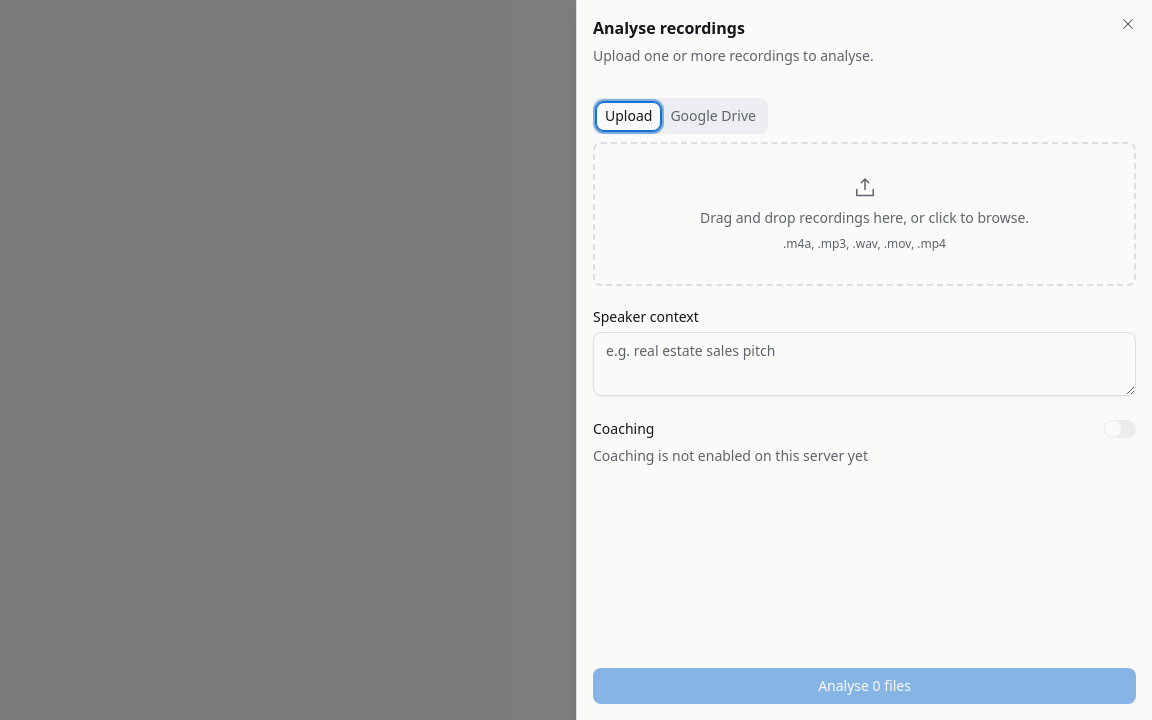
a 415 from the Drive submit shows the server detail inline
Click the tab "Google Drive" at [713, 116], box [661,102,765,130]
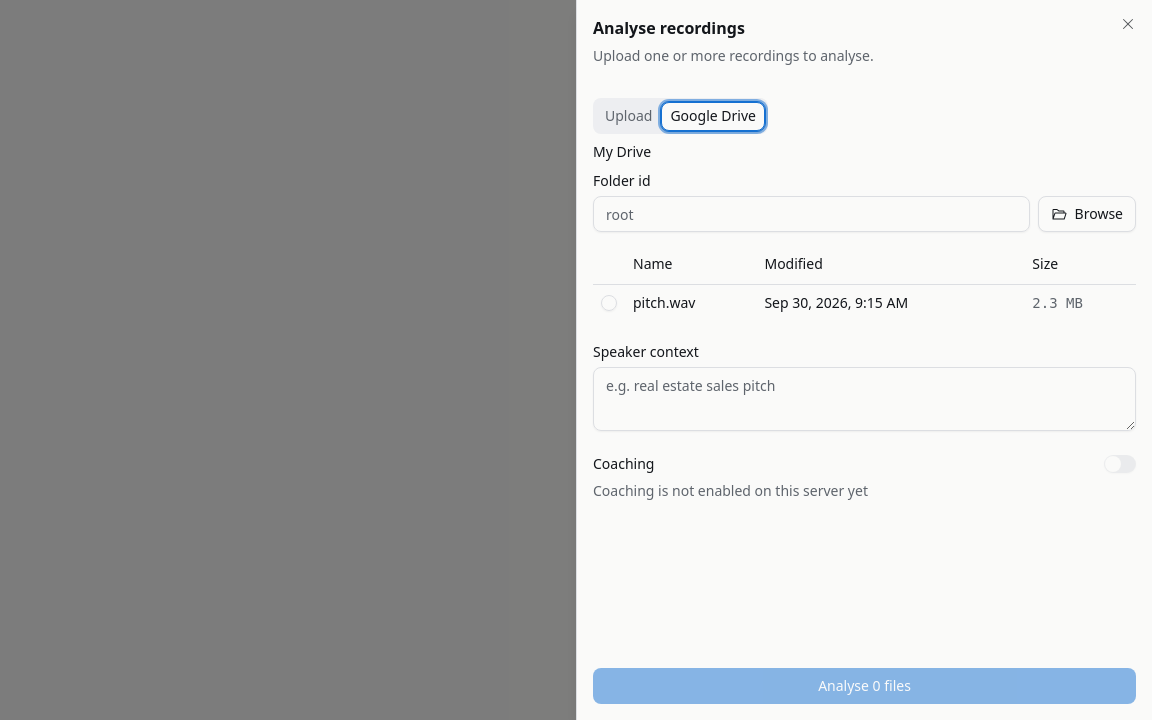
Click the checkbox named "Select pitch.wav" at [609, 302], box [601,294,617,310]
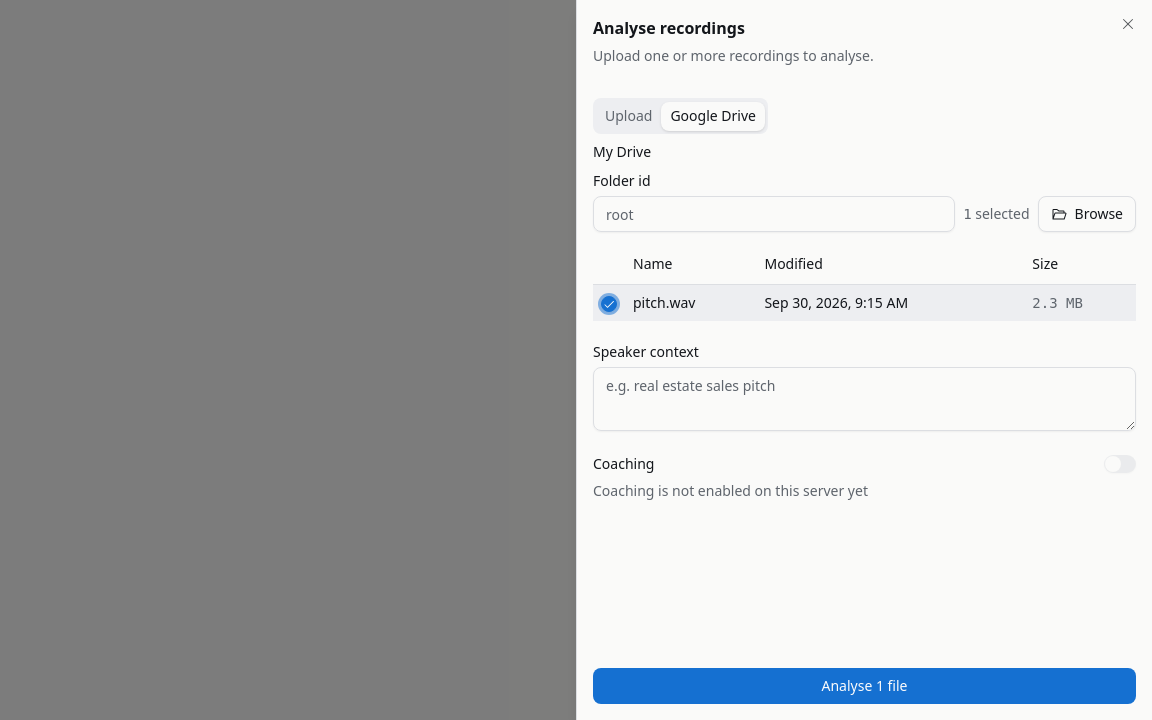
Click the button "Analyse 1 file" at [864, 686], box [593,668,1136,704]
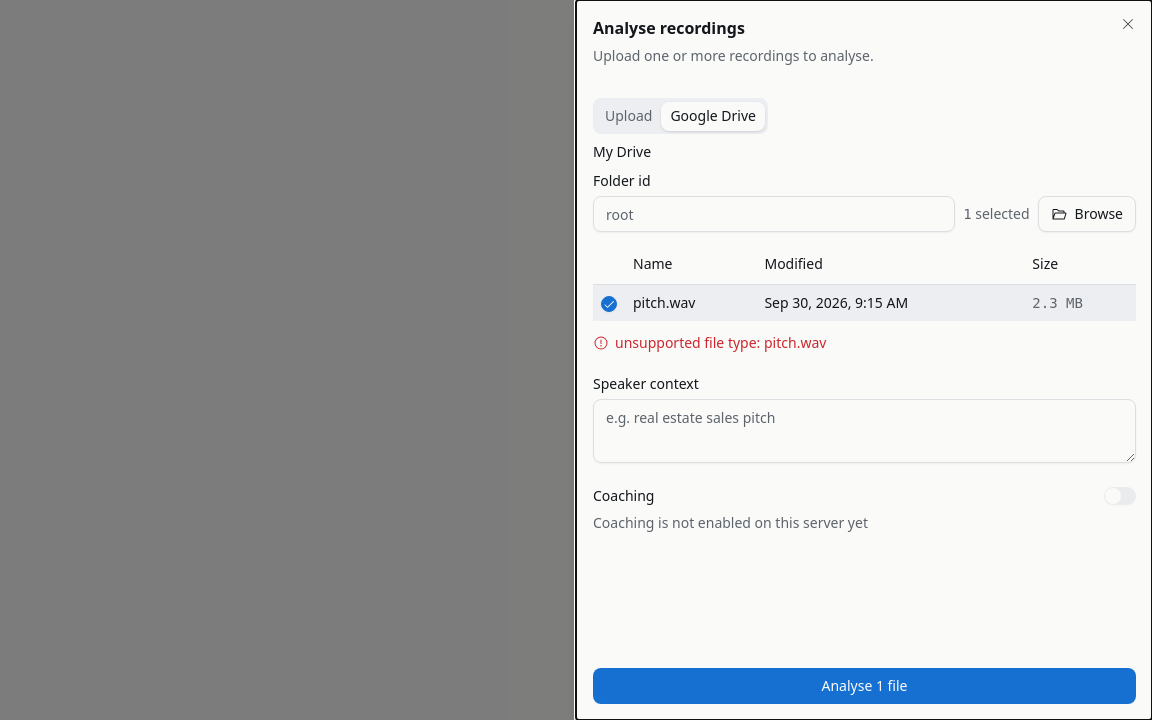
Check: the message reads "unsupported file type: pitch.wav", box [615,332,826,352]
